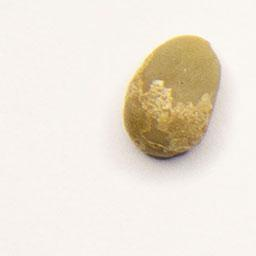premium: (119, 31, 223, 161)
